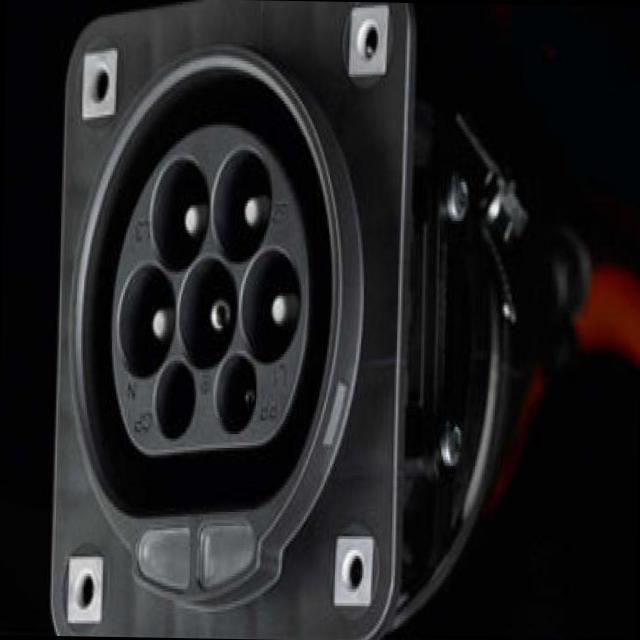inlet: (111, 123, 307, 453)
inlet-above-left: (215, 352, 255, 433)
inlet-above-right: (155, 359, 195, 439)
inlet-below-left: (212, 148, 271, 264)
inlet-below-right: (151, 156, 208, 272)
inlet-center: (177, 256, 236, 370)
inlet-center-left: (240, 249, 300, 364)
inlet-center-right: (117, 263, 174, 377)
